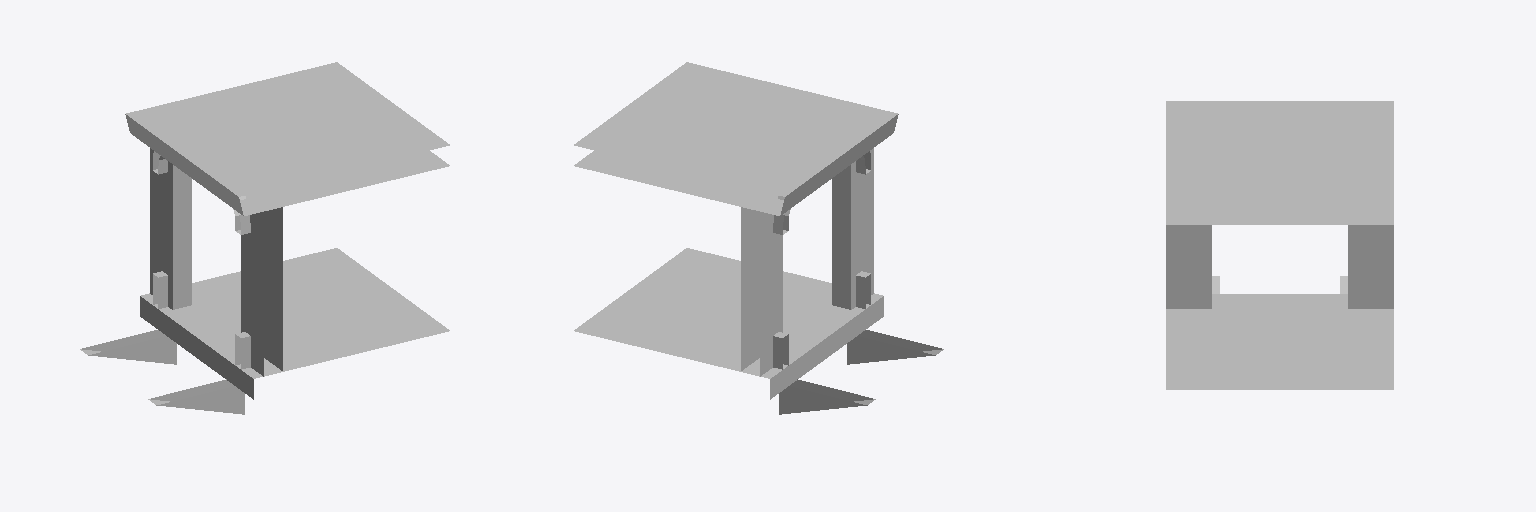
Rendered from worldtile36.obj.
3 renders of one model, left to right at view 1: azimuth 30°, elevation 25°; view 2: azimuth 150°, elevation 25°; view 3: azimuth 270°, elevation 25°, orthographic.
Visible parts, largest first — view 1: objRegroup02; view 2: objRegroup02; view 3: objRegroup02.
Boxes of the visible parts, <box> form: objRegroup02: <box>80,62,449,414</box>; objRegroup02: <box>574,62,943,414</box>; objRegroup02: <box>1166,101,1393,389</box>.
Size of the model in its own units: 14 by 11.5 by 10.